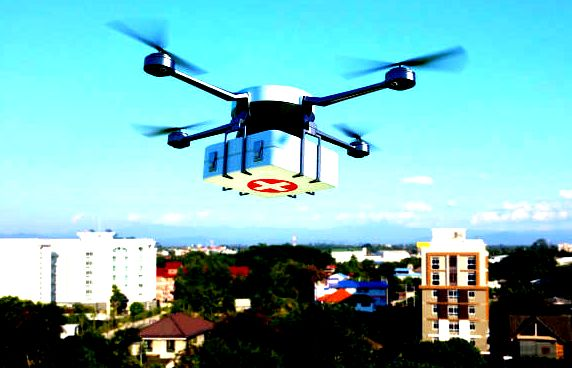Drone: (106, 10, 472, 163)
